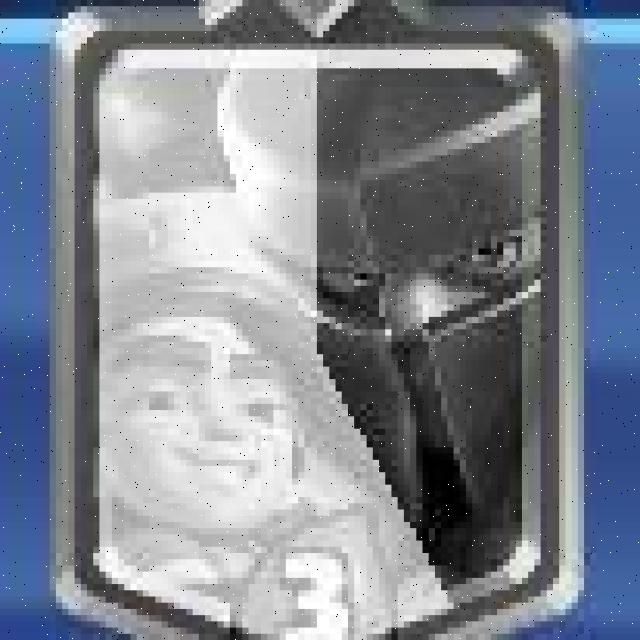Little_Prince: (51, 6, 585, 640)
